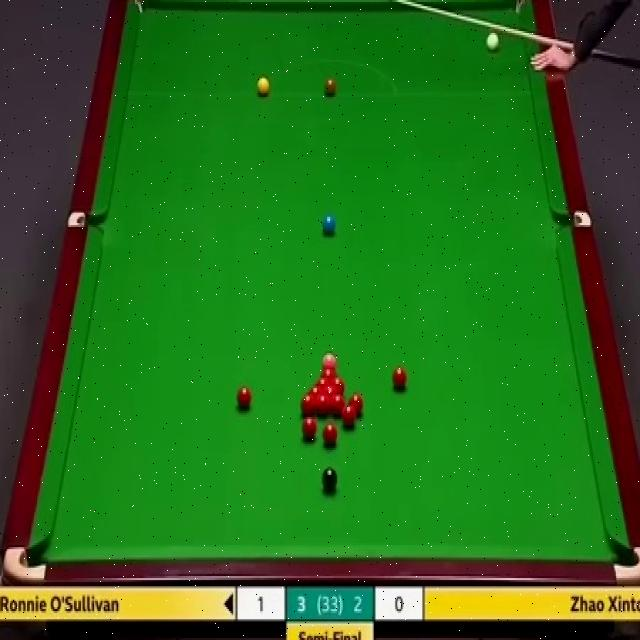black-ball: (322, 467, 338, 493)
blue-ball: (322, 214, 336, 234)
brown-ball: (323, 77, 337, 96)
pink-ball: (321, 351, 336, 364)
red-ball: (235, 386, 253, 412), (302, 416, 318, 441), (322, 422, 338, 447), (392, 366, 407, 392), (299, 392, 315, 416), (330, 394, 346, 416), (341, 405, 356, 428), (348, 393, 363, 416), (316, 392, 330, 414), (331, 376, 345, 392), (318, 365, 337, 375), (322, 385, 338, 394), (315, 376, 330, 385), (308, 385, 322, 394)
white-ball: (486, 28, 500, 54)
yellow-ball: (256, 77, 269, 96)
